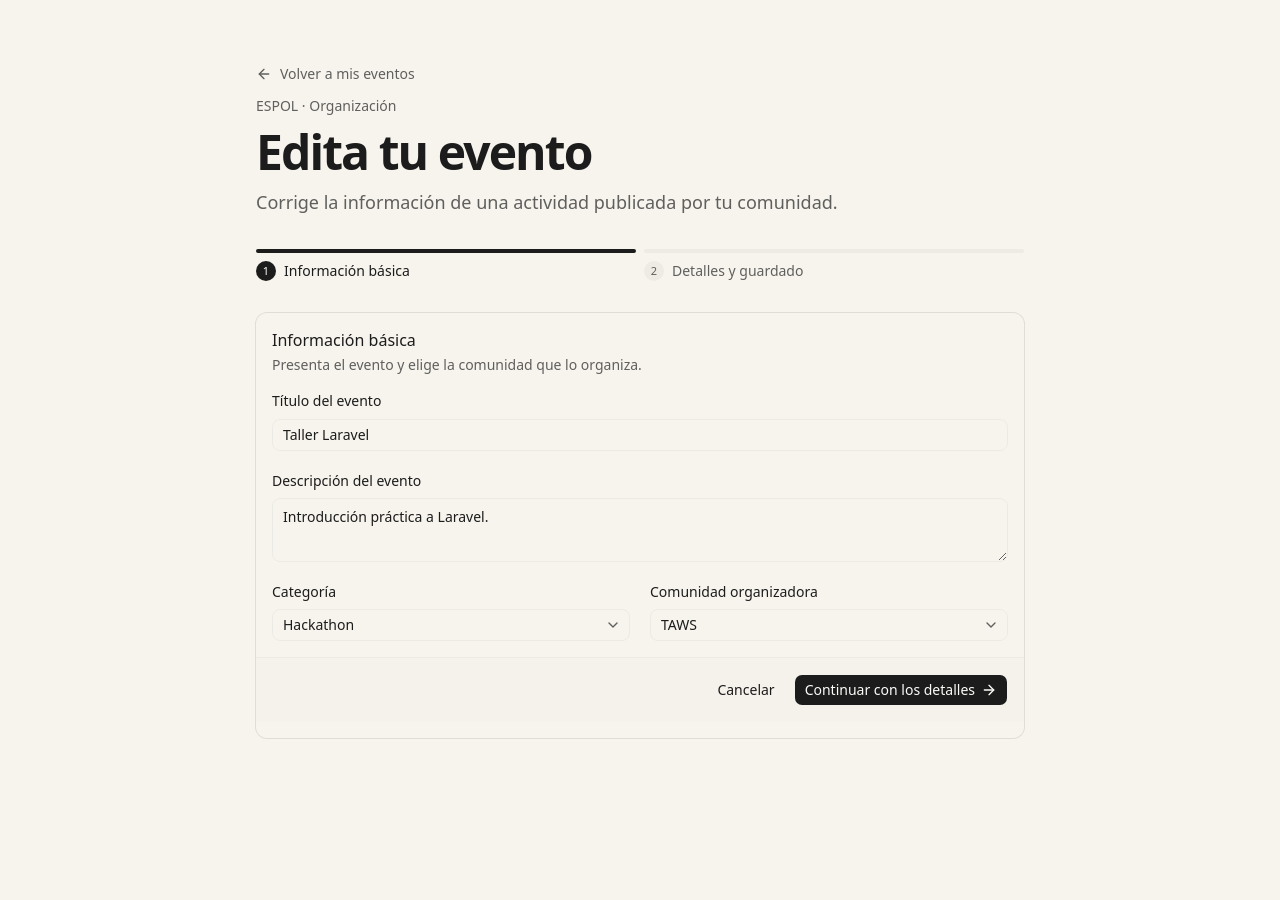
Test: edit event page › removes the current image after explicit confirmation
Click the button "Continuar con los detalles": x=901, y=690 [794,674,1008,706]
(page scrolled)
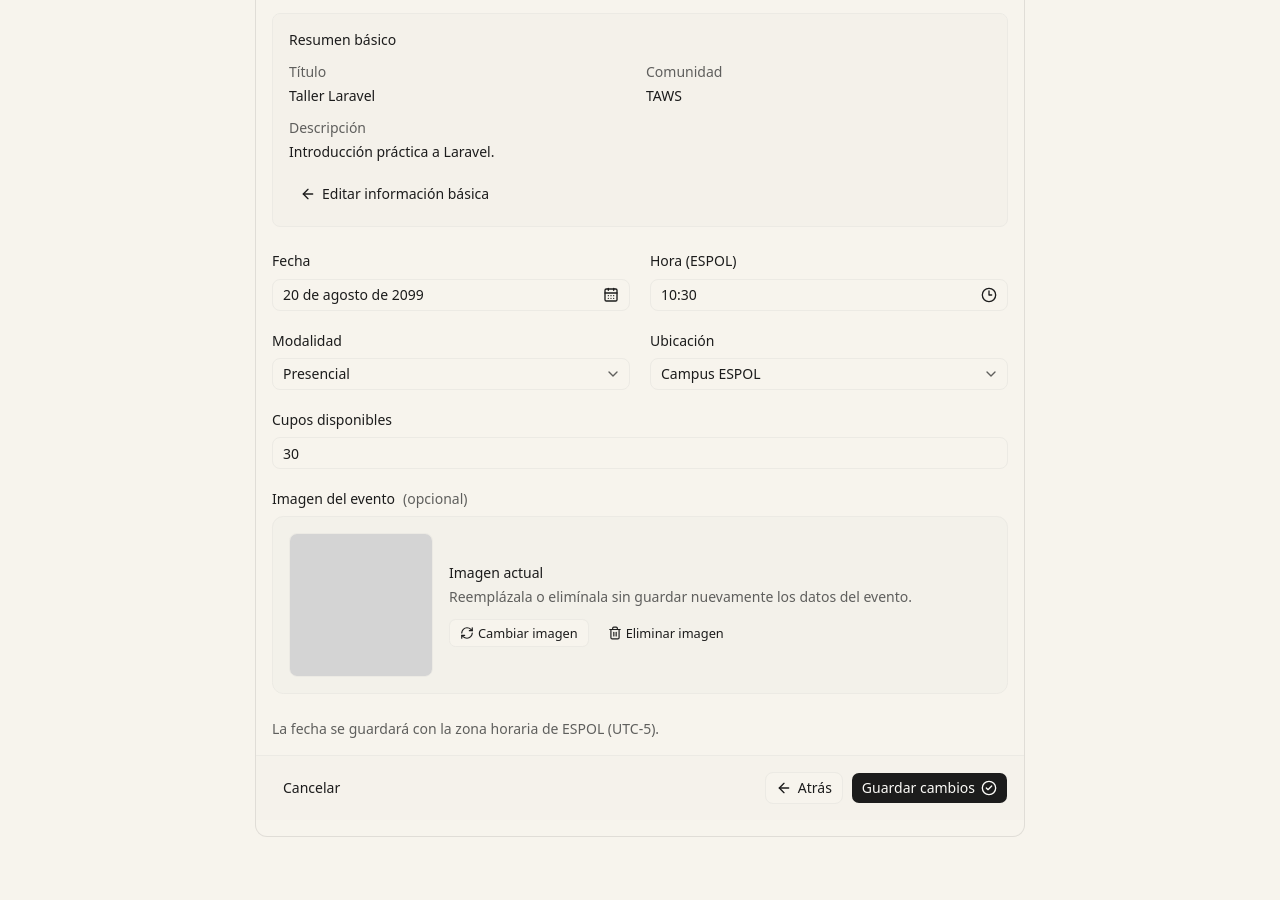
Click the button "Eliminar imagen": x=666, y=633 [597,619,735,647]
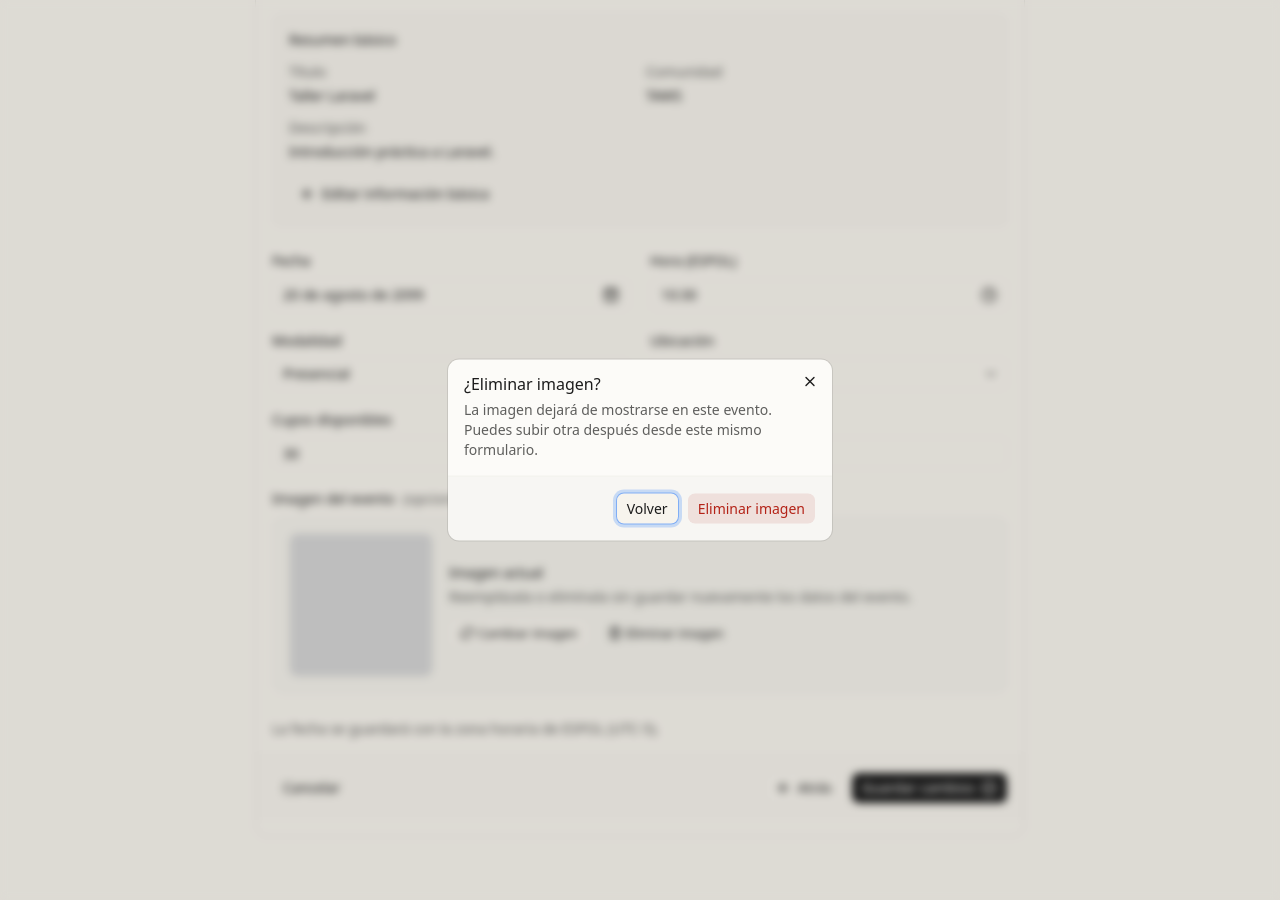
Now the text "La imagen dejará de mostrarse en este evento. Puedes subir otra después desde este mismo formulario." is shown, box [464,400,772,458]
Click the button "Eliminar imagen": x=751, y=508 [687,492,816,524]
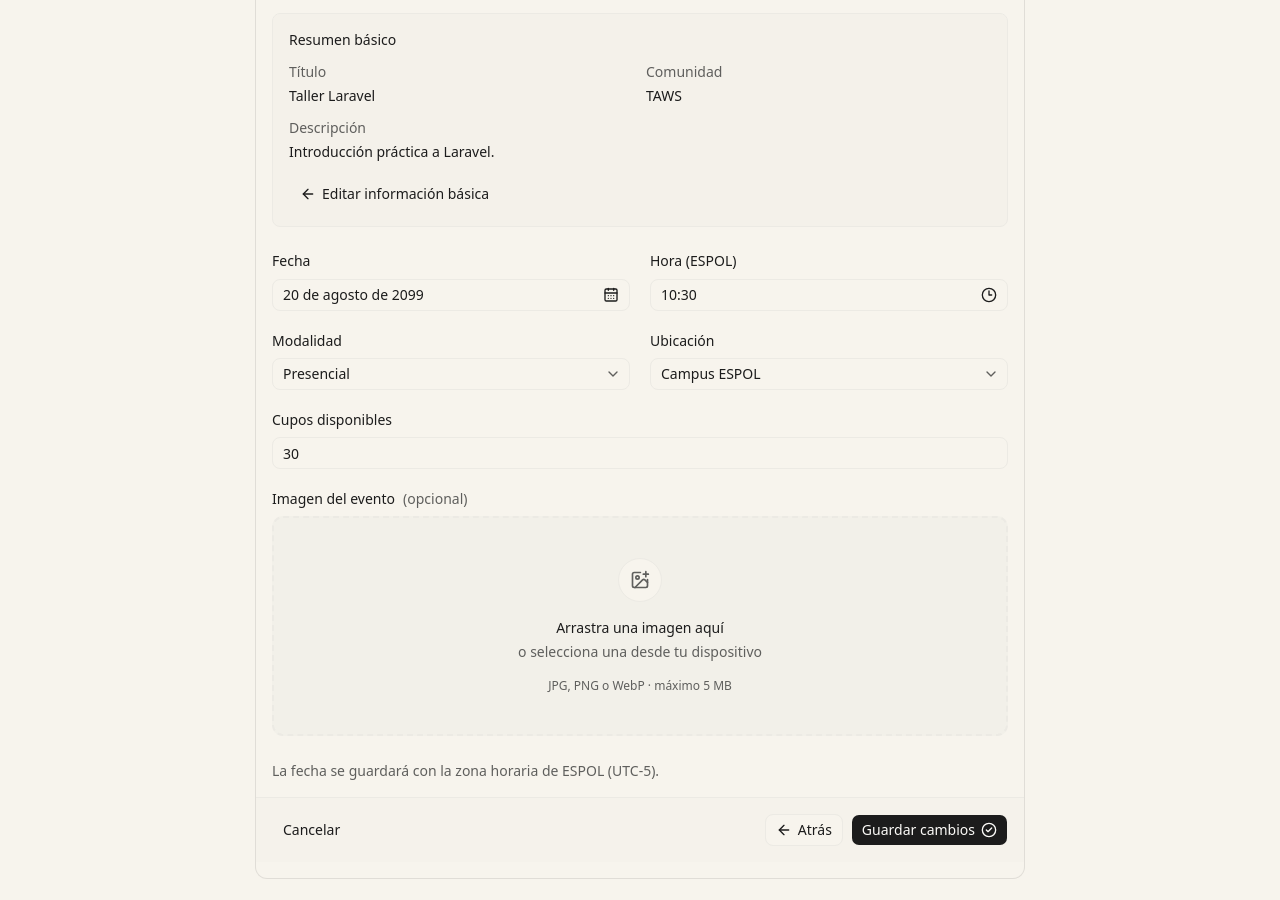
Now the button with aria-label "Subir imagen del evento" is shown, box [272,516,1008,736]
